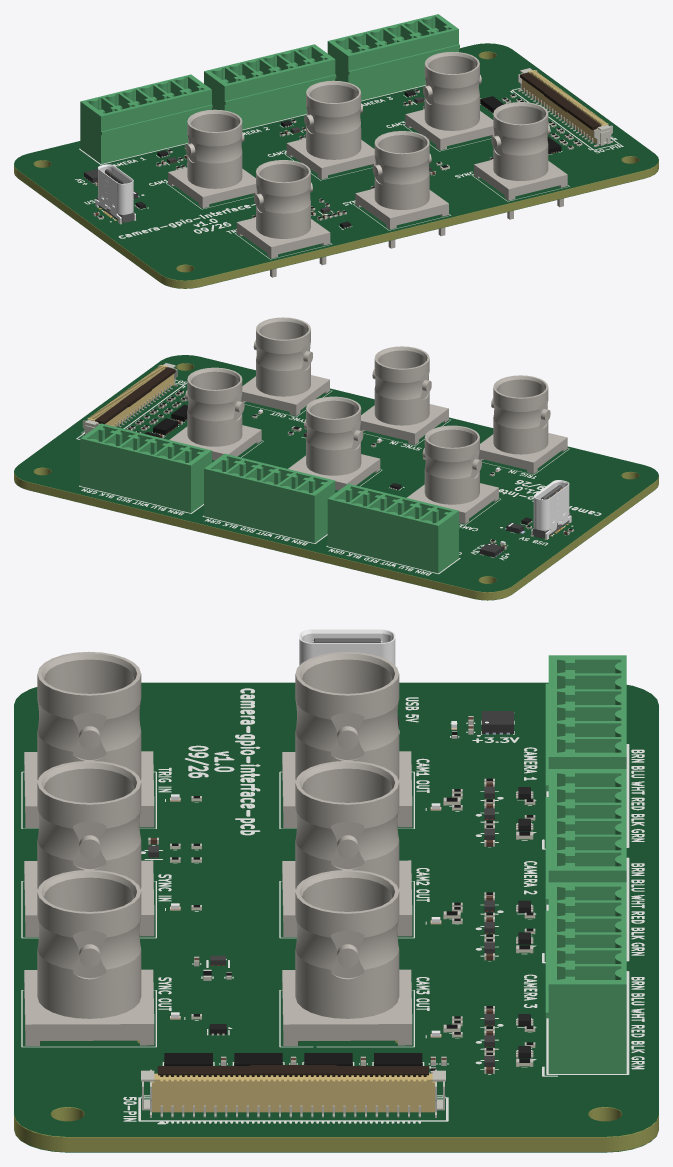
File: camera-gpio-interface-pcb.glb
The picture shows the model from 3 angles, top to bottom: view 1: azimuth 30°, elevation 25°; view 2: azimuth 150°, elevation 25°; view 3: azimuth 270°, elevation 25°; orthographic projection. The views are drawn at different scales.
Parts seen in each view (by area): view 1: =>[0:1:1:61], =>[0:1:1:14] (×6), =>[0:1:1:49] (×3), =>[0:1:1:63], =>[0:1:1:60], =>0:1:1:44, Housing, Actuator, =>[0:1:1:62], Fittings; view 2: =>[0:1:1:14] (×6), =>[0:1:1:61], =>[0:1:1:49] (×3), =>[0:1:1:63], =>[0:1:1:60], =>0:1:1:44, Housing, Actuator, =>[0:1:1:62]; view 3: =>[0:1:1:61], =>[0:1:1:14] (×6), =>[0:1:1:49] (×3), =>[0:1:1:60], =>[0:1:1:63], Housing, Actuator, =>0:1:1:44, Leads, =>[0:1:1:53].
Part boxes in pixels (x1,y1,x2,y2): =>[0:1:1:61]: [14, 43, 658, 280]; =>[0:1:1:14] (×6): [168, 51, 567, 277]; =>[0:1:1:49] (×3): [80, 14, 459, 163]; =>[0:1:1:63]: [14, 51, 658, 288]; =>[0:1:1:60]: [75, 85, 623, 259]; =>0:1:1:44: [95, 164, 135, 224]; Housing: [522, 70, 608, 143]; Actuator: [520, 72, 600, 130]; =>[0:1:1:62]: [17, 168, 658, 288]; Fittings: [518, 68, 612, 147]; =>[0:1:1:14] (×6): [169, 317, 567, 523]; =>[0:1:1:61]: [14, 355, 658, 592]; =>[0:1:1:49] (×3): [80, 423, 459, 573]; =>[0:1:1:63]: [14, 363, 658, 600]; =>[0:1:1:60]: [76, 380, 601, 575]; =>0:1:1:44: [531, 480, 571, 539]; Housing: [87, 365, 173, 426]; Actuator: [95, 367, 175, 424]; =>[0:1:1:62]: [15, 483, 657, 600]; =>[0:1:1:61]: [14, 682, 658, 1136]; =>[0:1:1:14] (×6): [24, 651, 412, 1045]; =>[0:1:1:49] (×3): [545, 655, 626, 1073]; =>[0:1:1:60]: [21, 688, 644, 1124]; =>[0:1:1:63]: [14, 1040, 658, 1151]; Housing: [151, 1073, 435, 1112]; Actuator: [157, 1065, 429, 1076]; =>0:1:1:44: [299, 629, 395, 665]; Leads: [160, 1105, 420, 1117]; =>[0:1:1:53]: [481, 711, 513, 734].
Bounding box in the file's own units: 0.1 × 0.017 × 0.06.
